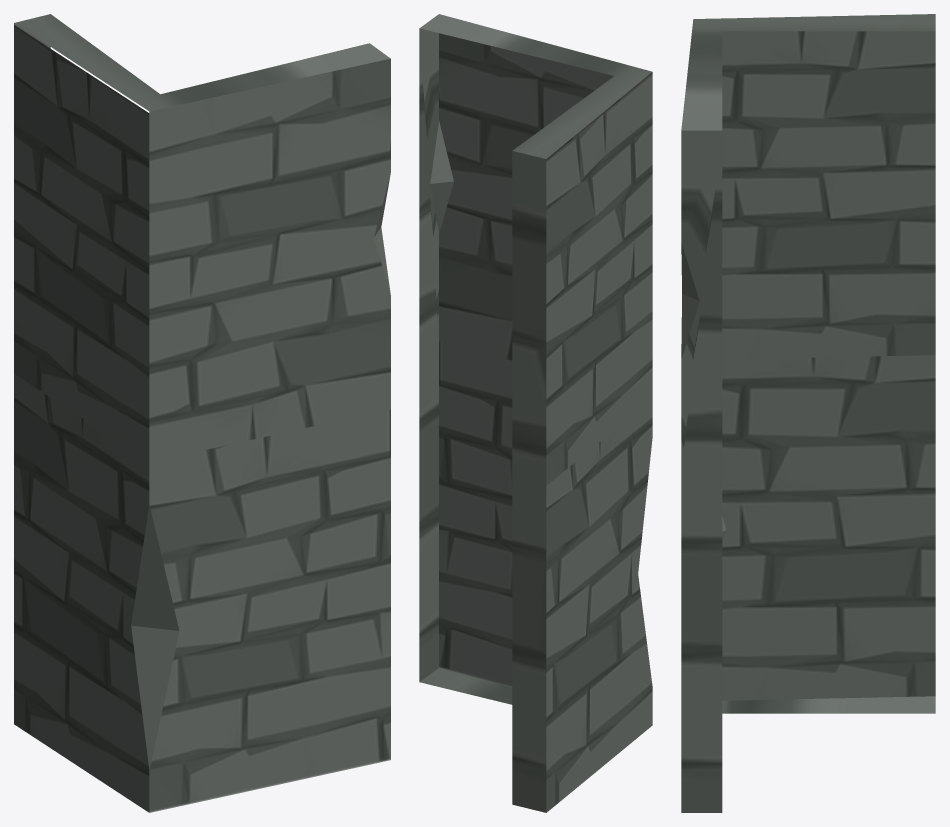
Rendered from SM_Env_Wall_19.fbx.
3 views of the same model, side by side, from view 1: azimuth 30°, elevation 25°; view 2: azimuth 150°, elevation 25°; view 3: azimuth 270°, elevation 25° (orthographic). The views are drawn at different scales.
Visible parts, largest first — view 1: SM_Env_Wall_19; view 2: SM_Env_Wall_19; view 3: SM_Env_Wall_19.
Boxes of the visible parts, left/top/right/bottom form: SM_Env_Wall_19: left=14, top=14, right=390, bottom=812; SM_Env_Wall_19: left=419, top=14, right=652, bottom=812; SM_Env_Wall_19: left=681, top=14, right=935, bottom=812.
Bounding box in the file's own units: 66.89 × 182 × 61.62.
1 material, 1 textured.
